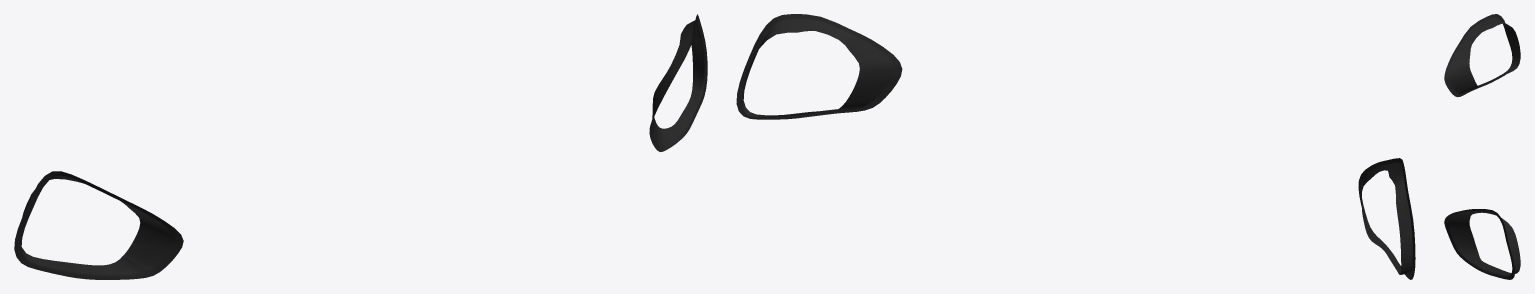
File: rcfAirVents.obj
3 views of the same model, side by side, from view 1: azimuth 30°, elevation 25°; view 2: azimuth 150°, elevation 25°; view 3: azimuth 270°, elevation 25° (orthographic). The views are drawn at different scales.
Visible parts, largest first — view 1: rcfAirVents; view 2: rcfAirVents; view 3: rcfAirVents.
Part boxes in pixels (<box>): rcfAirVents: <box>14,14,707,279</box>; rcfAirVents: <box>736,14,1415,279</box>; rcfAirVents: <box>1444,14,1520,279</box>.
Bounding box in the file's own units: 170 × 25 × 25.7.
1 material, 1 textured.
